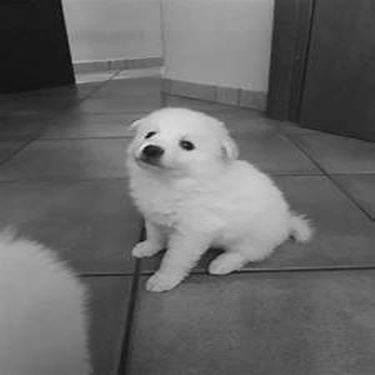dog: (107, 103, 320, 300), (1, 210, 99, 372)
